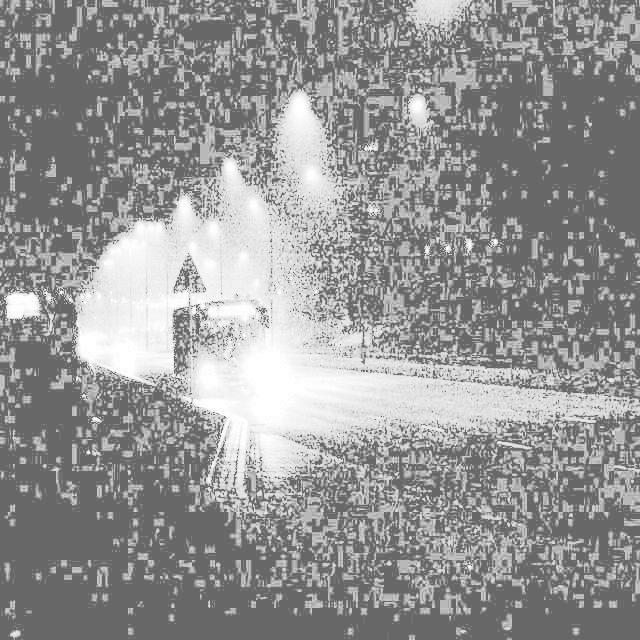Bus: (156, 279, 281, 424)
